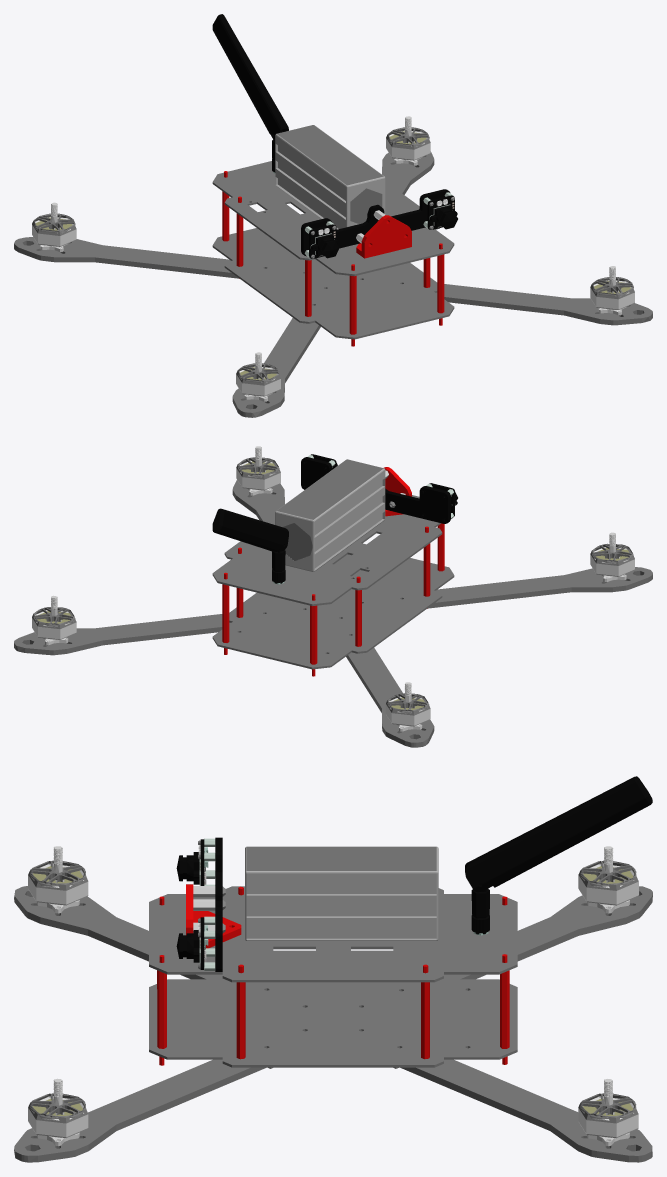
File: drone_lowres.dae
The picture shows the model from 3 angles, top to bottom: view 1: azimuth 30°, elevation 25°; view 2: azimuth 150°, elevation 25°; view 3: azimuth 270°, elevation 25°; orthographic projection. The views are drawn at different scales.
Visible parts, largest first — view 1: dron_lowres; view 2: dron_lowres; view 3: dron_lowres.
Boxes of the visible parts, x1=… form: dron_lowres: x1=14, y1=14, x2=652, y2=417; dron_lowres: x1=14, y1=446, x2=652, y2=747; dron_lowres: x1=14, y1=776, x2=652, y2=1162.
Bounding box in the file's own units: 0.3467 × 0.3466 × 0.1548.
